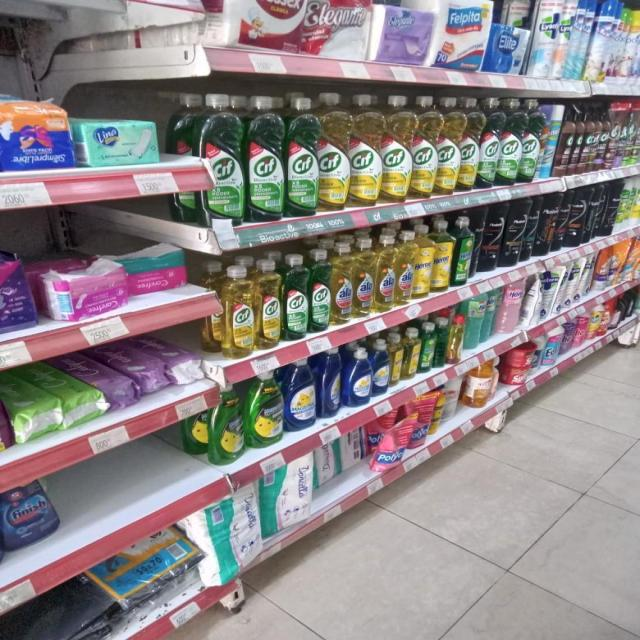ala_conc_amarillo: (331, 244, 353, 326), (354, 238, 374, 318), (375, 234, 395, 312), (396, 230, 413, 307)
cif_conc_bot_amarilla: (319, 92, 349, 213), (350, 93, 381, 209), (382, 94, 411, 204), (223, 264, 255, 358), (412, 94, 436, 200), (256, 259, 281, 350), (438, 96, 460, 196), (459, 97, 478, 193)
cif_conc_botella_verde: (197, 92, 244, 225), (247, 94, 284, 222), (286, 94, 318, 217), (283, 254, 308, 340), (499, 99, 520, 186), (479, 98, 498, 189), (310, 249, 330, 333), (520, 99, 538, 184)
magistral_con_azul: (284, 358, 316, 431)
